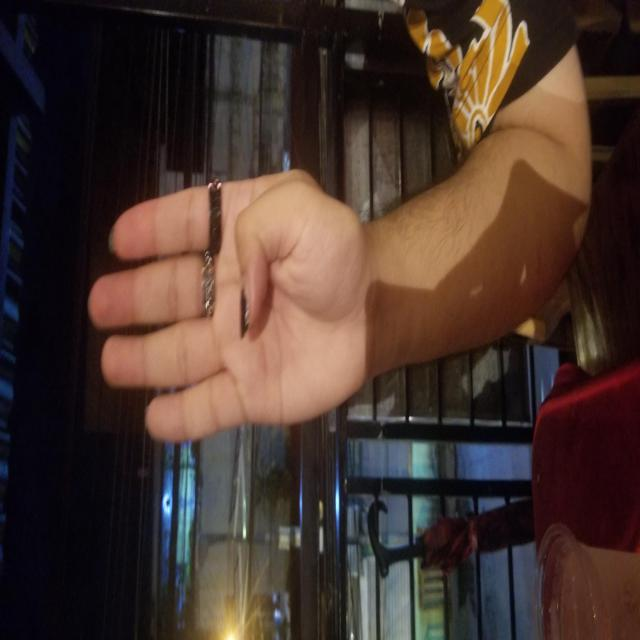B: (196, 88, 474, 361)
